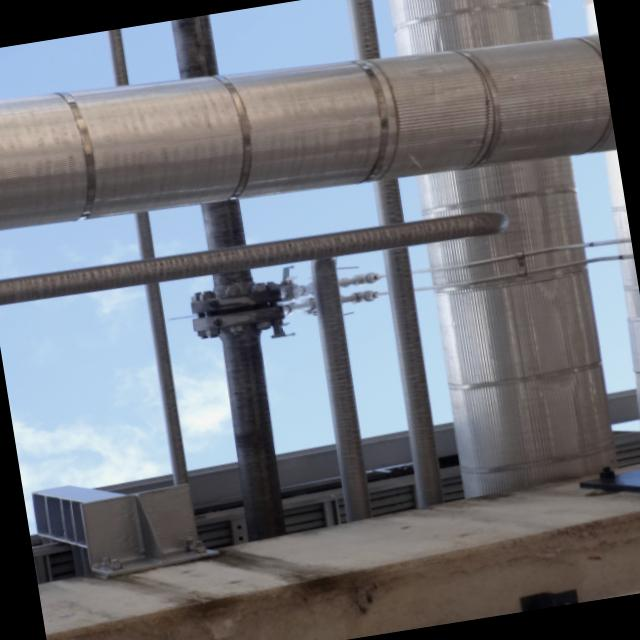gas: (0, 3, 617, 251), (0, 194, 504, 314), (106, 28, 189, 489), (190, 195, 298, 538), (310, 253, 373, 519), (384, 253, 444, 506), (169, 14, 215, 73), (350, 0, 379, 59), (373, 177, 403, 224)
